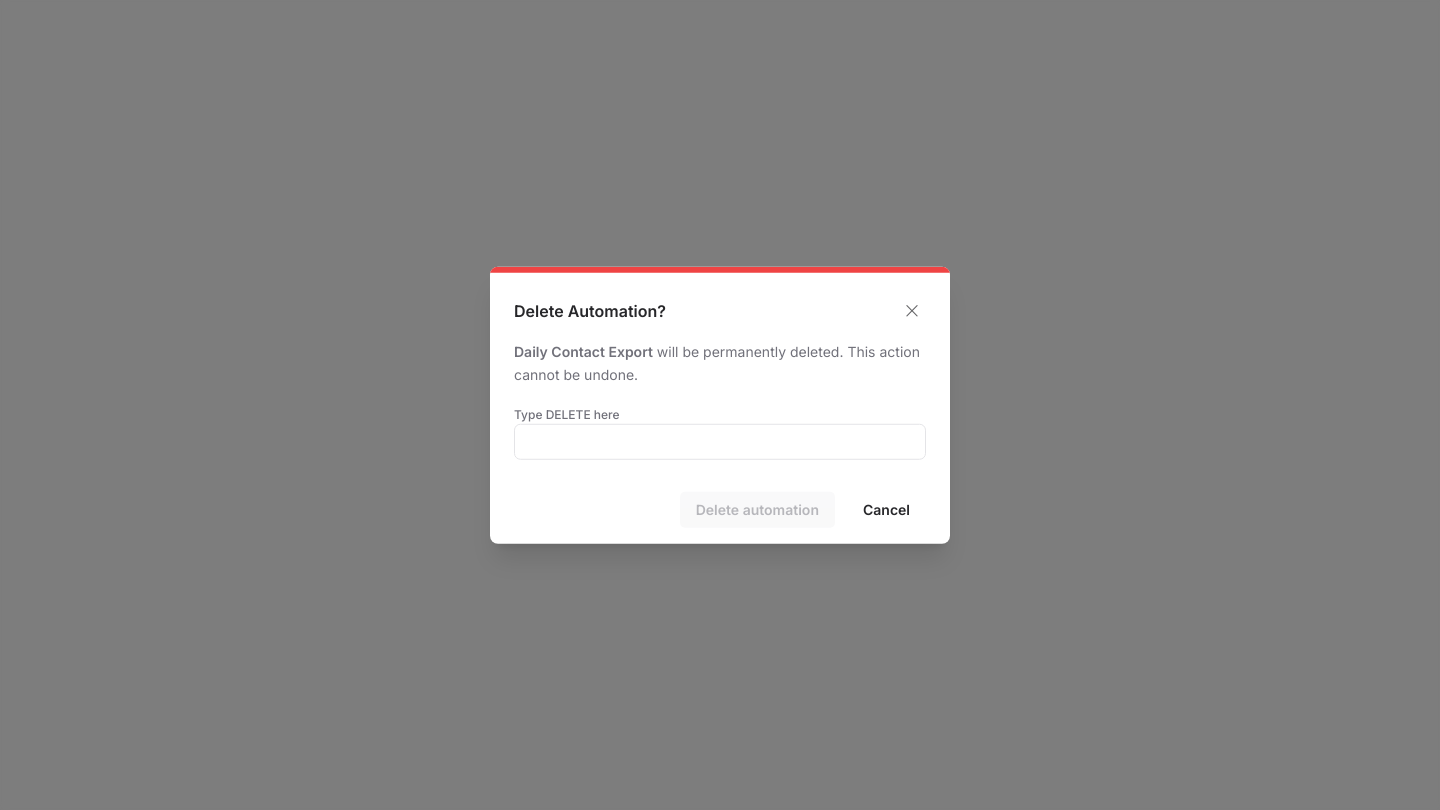
Scenario: DeleteConfirmModal › delete button is enabled after typing DELETE
The image size is (1440, 810).
Type "DELETE" into the field. click: (720,441)
box: [514,423,926,459]
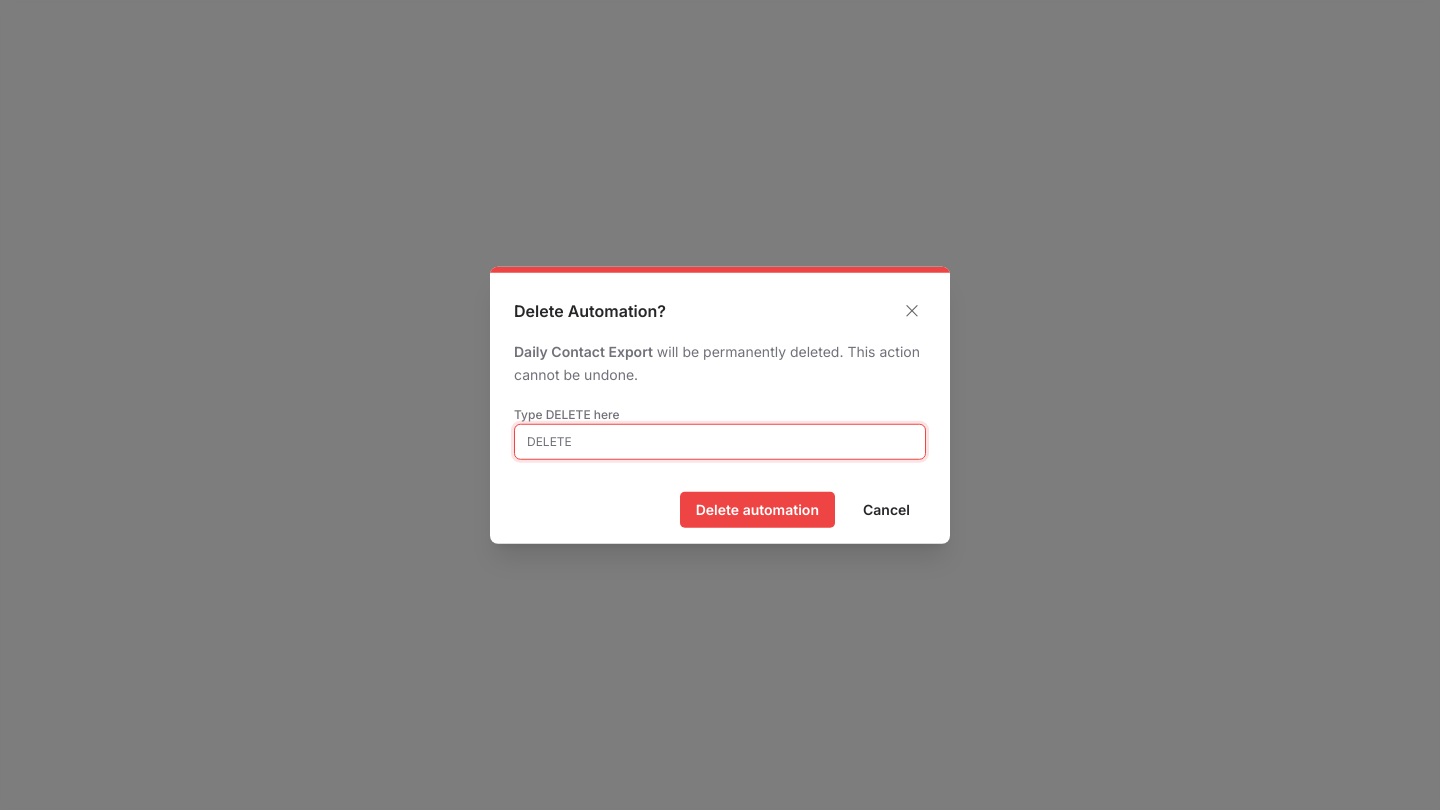
Now the button "Delete automation" is enabled, box [680,491,835,527]
